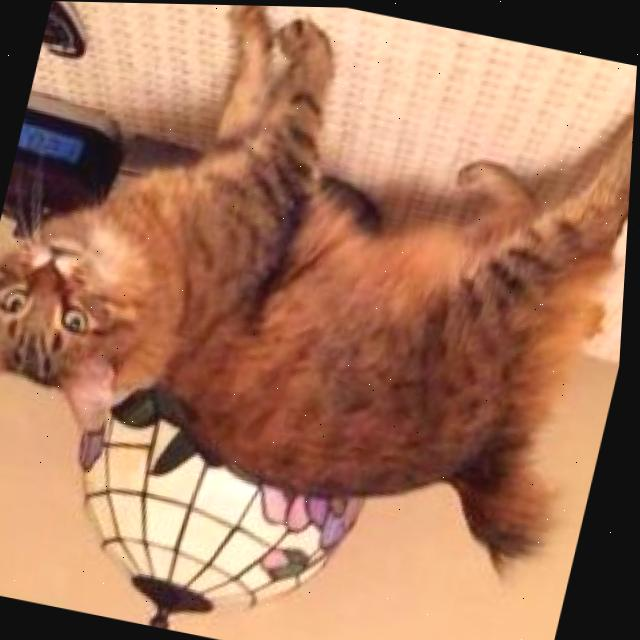American Bobtail: (0, 0, 640, 590)
